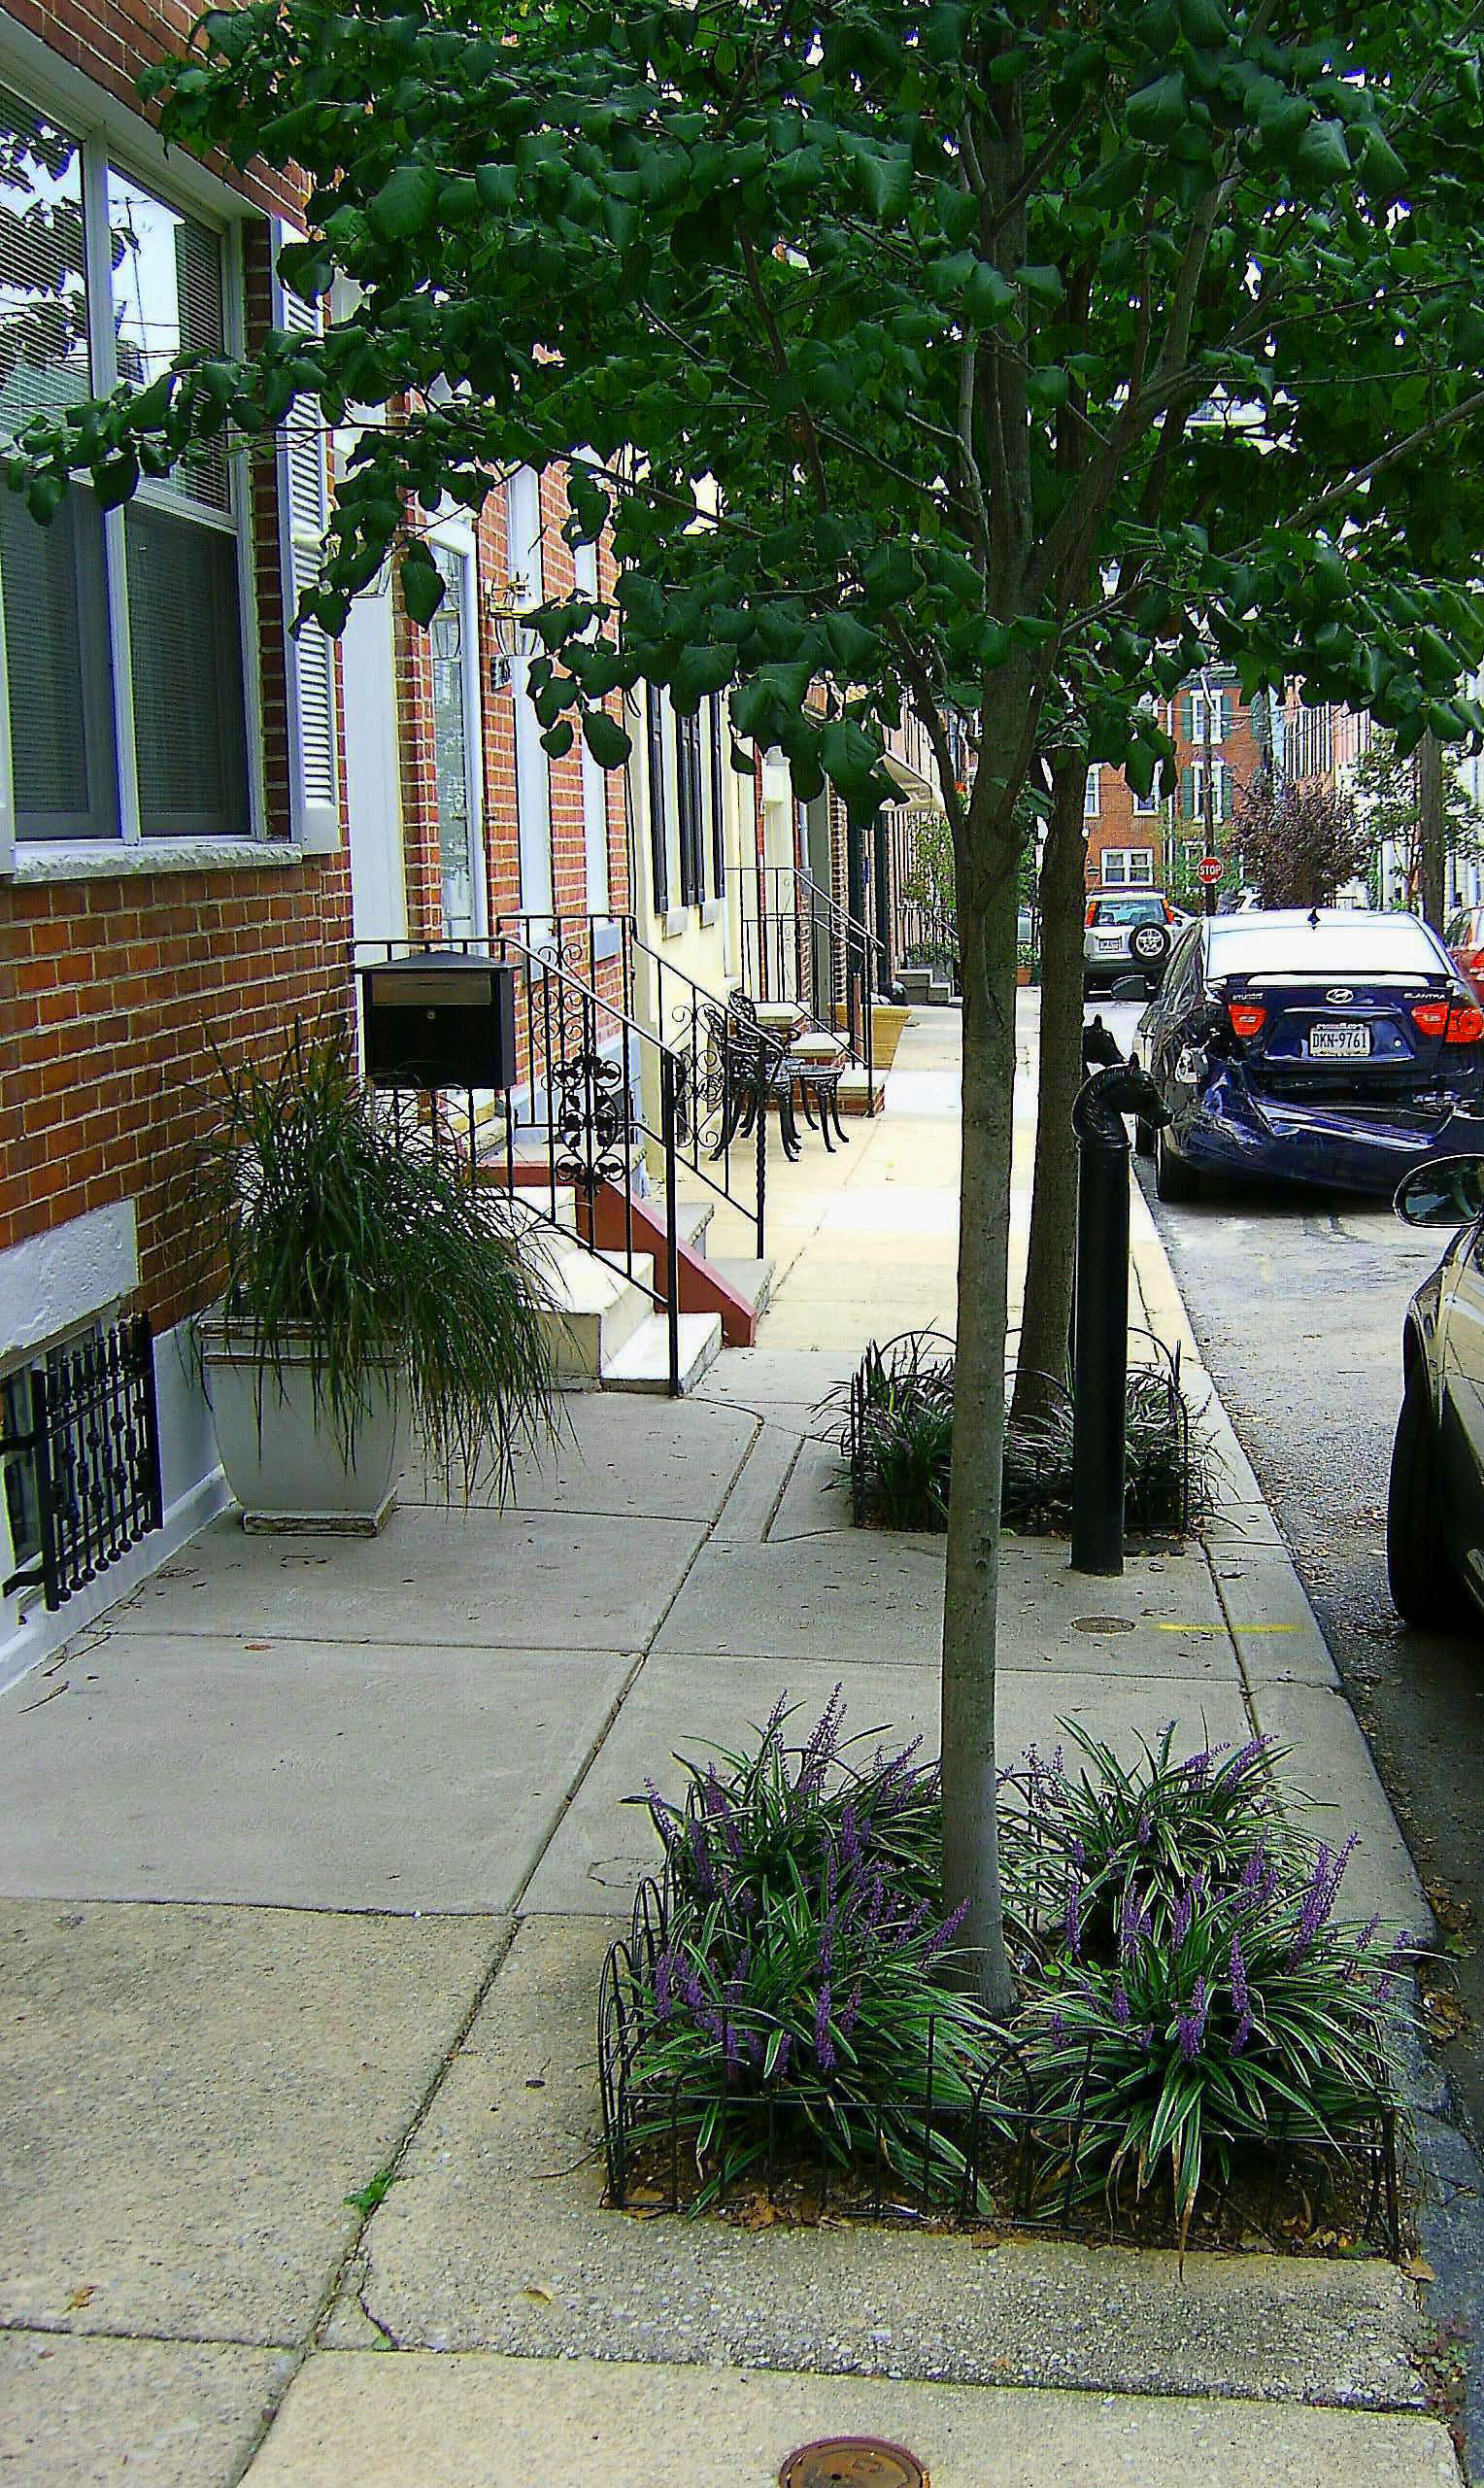tree: (2, 2, 1480, 2020)
